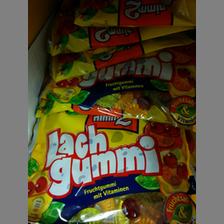candy: (29, 110, 194, 224)
